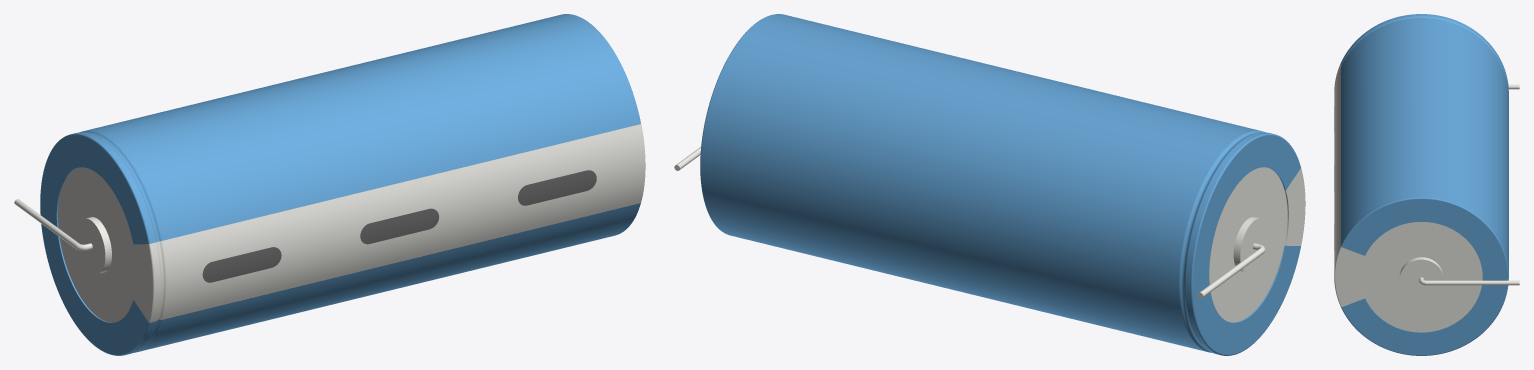
File: CP_Axial_L80.0mm_D32.0mm_P85.00mm_Horizontal.glb
3 renders of one model, left to right at view 1: azimuth 30°, elevation 25°; view 2: azimuth 150°, elevation 25°; view 3: azimuth 270°, elevation 25°, orthographic. The views are drawn at different scales.
Visible parts, largest first — view 1: Shape_IndexedFaceSet.009, Shape_IndexedFaceSet.059, Shape_IndexedFaceSet.006, Shape_IndexedFaceSet.074, Shape_IndexedFaceSet.018, Shape_IndexedFaceSet.038, Shape_IndexedFaceSet.028, Shape_IndexedFaceSet.051, Shape_IndexedFaceSet.072, Shape_IndexedFaceSet, Shape_IndexedFaceSet.005, Shape_IndexedFaceSet.003 (+1 smaller); view 2: Shape_IndexedFaceSet.009, Shape_IndexedFaceSet.006, Shape_IndexedFaceSet.074, Shape_IndexedFaceSet, Shape_IndexedFaceSet.051, Shape_IndexedFaceSet.005, Shape_IndexedFaceSet.072, Shape_IndexedFaceSet.003, Shape_IndexedFaceSet.007, Shape_IndexedFaceSet.061; view 3: Shape_IndexedFaceSet.009, Shape_IndexedFaceSet.012, Shape_IndexedFaceSet.069, Shape_IndexedFaceSet.056, Shape_IndexedFaceSet.067, Shape_IndexedFaceSet.059, Shape_IndexedFaceSet.011, Shape_IndexedFaceSet.065, Shape_IndexedFaceSet, Shape_IndexedFaceSet.005, Shape_IndexedFaceSet.002.
Boxes of the visible parts, bbox=[...] form: Shape_IndexedFaceSet.009: bbox=[83, 14, 640, 351]; Shape_IndexedFaceSet.059: bbox=[162, 124, 644, 319]; Shape_IndexedFaceSet.006: bbox=[40, 135, 148, 354]; Shape_IndexedFaceSet.074: bbox=[58, 167, 136, 322]; Shape_IndexedFaceSet.018: bbox=[202, 247, 281, 282]; Shape_IndexedFaceSet.038: bbox=[360, 208, 438, 244]; Shape_IndexedFaceSet.028: bbox=[518, 170, 596, 205]; Shape_IndexedFaceSet.051: bbox=[133, 244, 152, 321]; Shape_IndexedFaceSet.072: bbox=[77, 218, 105, 273]; Shape_IndexedFaceSet: bbox=[74, 132, 155, 354]; Shape_IndexedFaceSet.005: bbox=[82, 131, 160, 351]; Shape_IndexedFaceSet.003: bbox=[40, 133, 150, 355]; Shape_IndexedFaceSet.009: bbox=[701, 14, 1260, 351]; Shape_IndexedFaceSet.006: bbox=[1193, 135, 1300, 354]; Shape_IndexedFaceSet.074: bbox=[1209, 167, 1287, 322]; Shape_IndexedFaceSet: bbox=[1185, 132, 1272, 354]; Shape_IndexedFaceSet.051: bbox=[1286, 169, 1305, 245]; Shape_IndexedFaceSet.005: bbox=[1180, 131, 1263, 351]; Shape_IndexedFaceSet.072: bbox=[1240, 218, 1268, 273]; Shape_IndexedFaceSet.003: bbox=[1191, 133, 1300, 355]; Shape_IndexedFaceSet.007: bbox=[1179, 130, 1264, 352]; Shape_IndexedFaceSet.061: bbox=[1199, 248, 1263, 297]; Shape_IndexedFaceSet.009: bbox=[1341, 18, 1508, 273]; Shape_IndexedFaceSet.012: bbox=[1342, 199, 1507, 355]; Shape_IndexedFaceSet.069: bbox=[1360, 222, 1482, 332]; Shape_IndexedFaceSet.056: bbox=[1335, 247, 1364, 306]; Shape_IndexedFaceSet.067: bbox=[1399, 259, 1443, 299]; Shape_IndexedFaceSet.059: bbox=[1334, 67, 1340, 270]; Shape_IndexedFaceSet.011: bbox=[1341, 197, 1508, 355]; Shape_IndexedFaceSet.065: bbox=[1426, 280, 1519, 285]; Shape_IndexedFaceSet: bbox=[1341, 14, 1508, 92]; Shape_IndexedFaceSet.005: bbox=[1341, 17, 1504, 72]; Shape_IndexedFaceSet.002: bbox=[1341, 16, 1508, 94].
Size of the model in its own units: 33.82 by 12.6 by 13.39.
